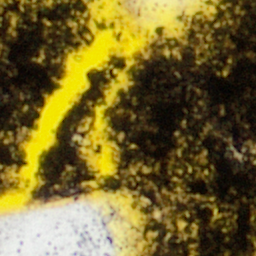cement_matrix: (102, 0, 255, 255), (0, 0, 87, 191), (35, 58, 123, 198), (151, 209, 165, 219)
cracks: (0, 0, 221, 255), (34, 57, 124, 199)
gravel_crushed_stones: (0, 199, 125, 255), (137, 0, 190, 7), (152, 210, 164, 218)
